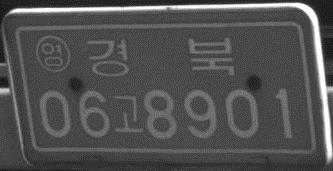0: (224, 88, 260, 137), (38, 89, 72, 139)
1: (272, 85, 297, 140)
6: (77, 89, 111, 138)
8: (144, 86, 178, 142)
9: (183, 89, 218, 139)
경북_D: (84, 36, 236, 79)
고: (111, 92, 144, 135)
영: (34, 35, 72, 74)
